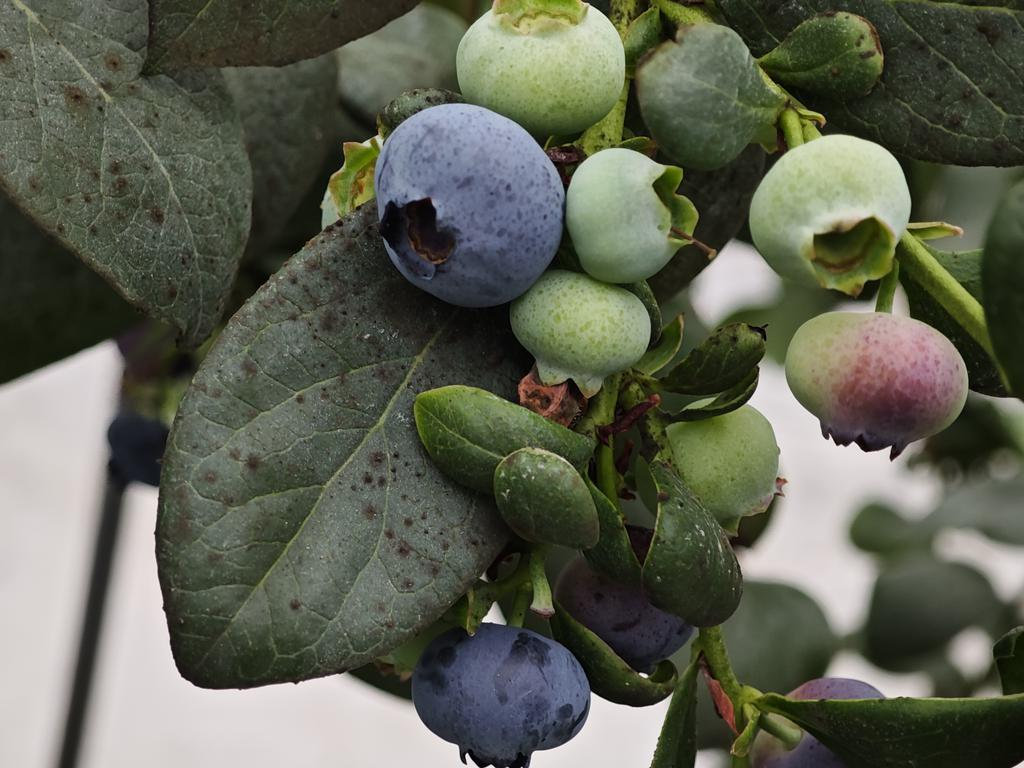RipeBlueBerry: (378, 100, 556, 311)
Semi-RipeBlueBerry: (790, 313, 969, 454)
UnripeBlueBerry: (748, 127, 908, 291), (452, 0, 628, 124), (566, 147, 697, 283), (514, 272, 654, 382)
